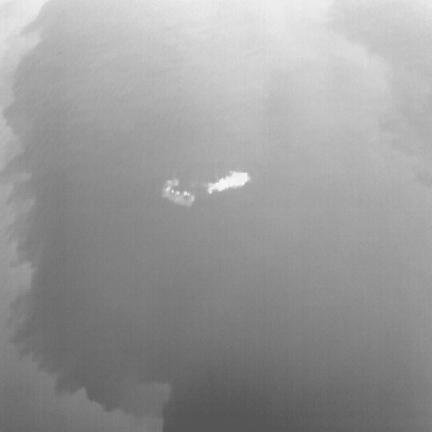flukeprints: (206, 171, 250, 193), (182, 191, 190, 196), (173, 191, 180, 195)
